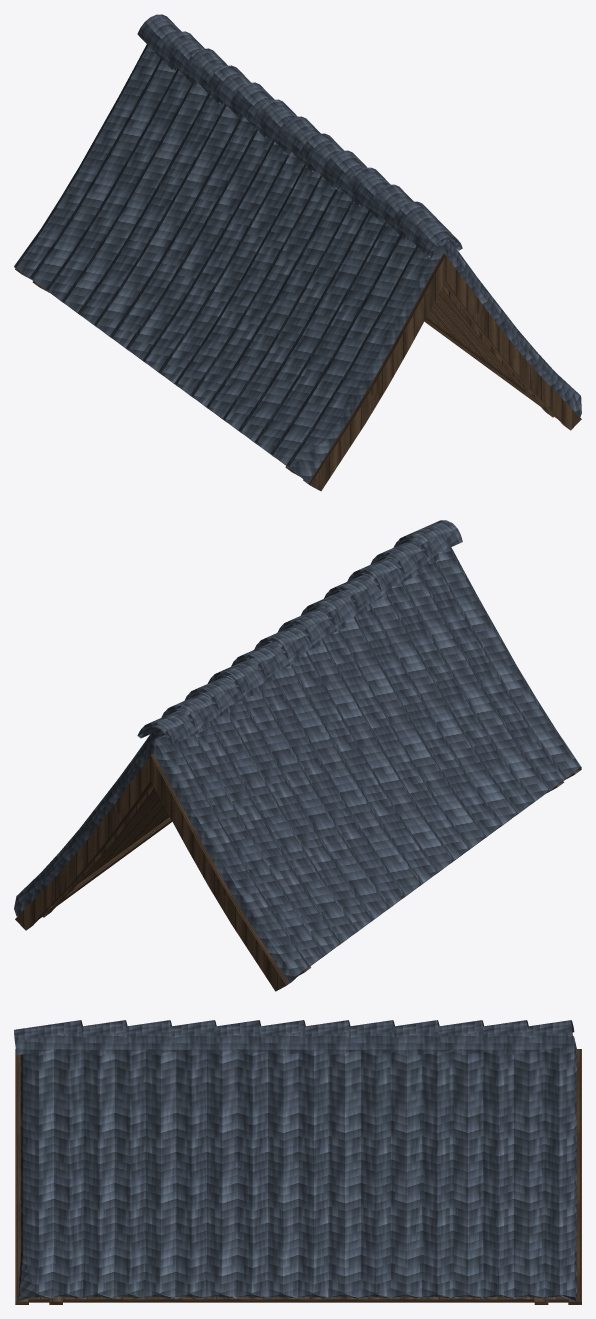
The model's file is Roof_Slate_4x8.gltf.
3 renders of one model, top to bottom at view 1: azimuth 30°, elevation 25°; view 2: azimuth 150°, elevation 25°; view 3: azimuth 270°, elevation 25°, orthographic. The views are drawn at different scales.
Parts seen in each view (by area): view 1: Roof_Slate_4x8; view 2: Roof_Slate_4x8; view 3: Roof_Slate_4x8.
Boxes of the visible parts, <box> form: Roof_Slate_4x8: <box>14,14,581,491</box>; Roof_Slate_4x8: <box>14,520,581,991</box>; Roof_Slate_4x8: <box>14,1020,581,1304</box>.
Bounding box in the file's own units: 5.51 × 4.23 × 9.68.
Materials: 2 (2 with a texture image).
